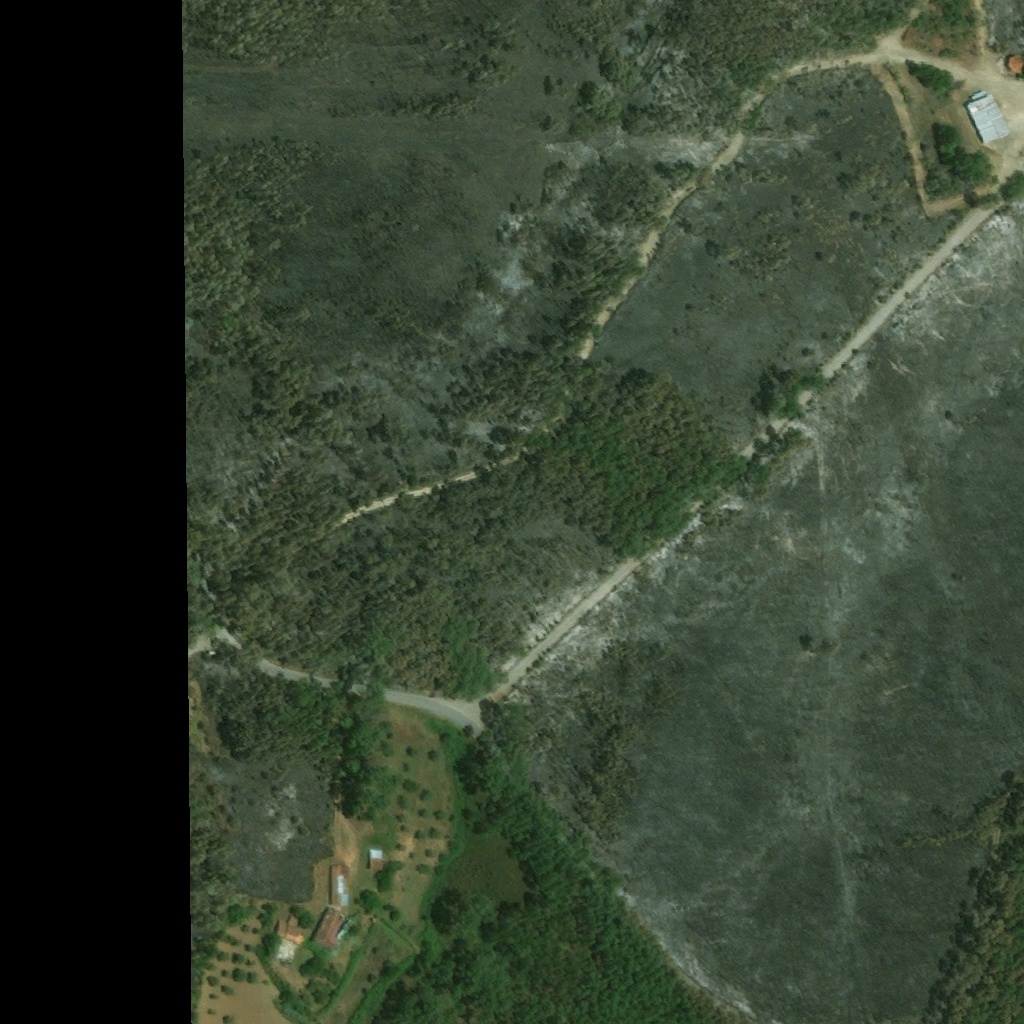0 no-damage: (962, 91, 1009, 143), (310, 907, 346, 955), (329, 865, 351, 907), (276, 915, 305, 946), (368, 849, 388, 872), (1007, 54, 1023, 76)
